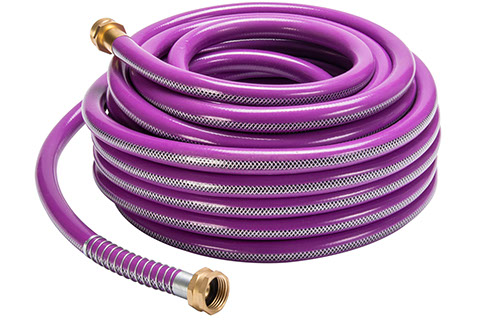Nonrec_Tangler: (33, 3, 463, 308)
